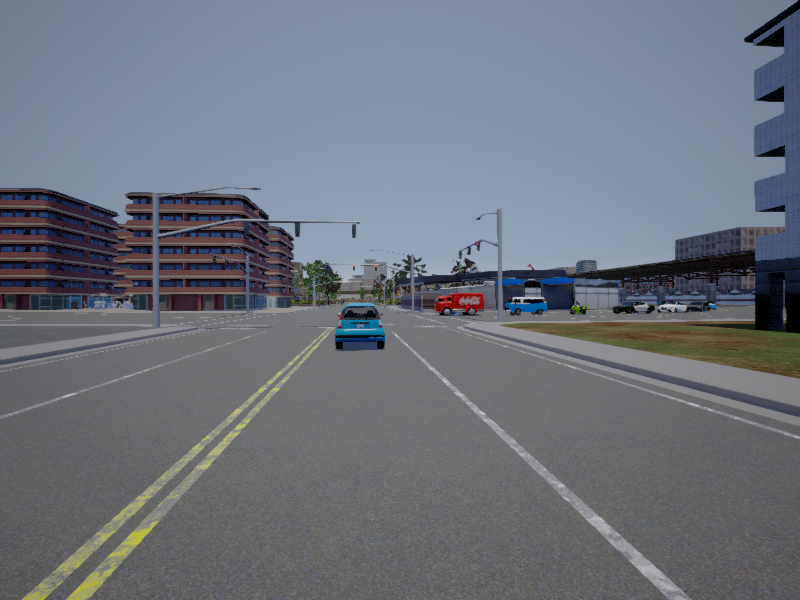Benign: (335, 304, 386, 350), (435, 294, 488, 317), (504, 296, 548, 315), (612, 300, 657, 313), (658, 299, 688, 314), (689, 301, 708, 313)
